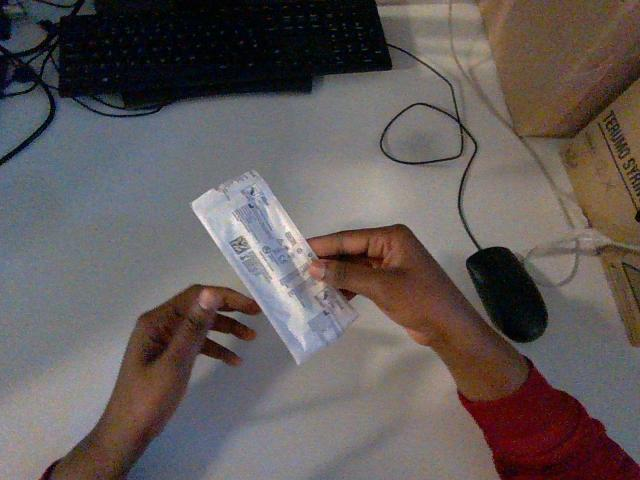syringe: (192, 171, 357, 363)
